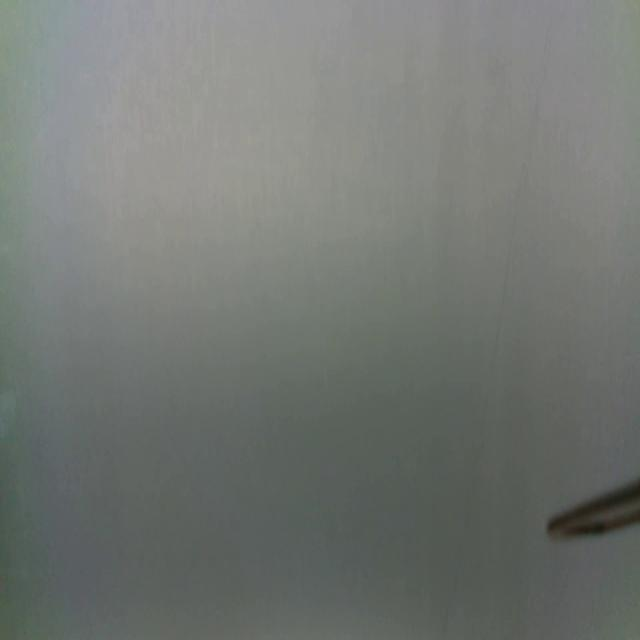crease: (490, 29, 558, 365)
